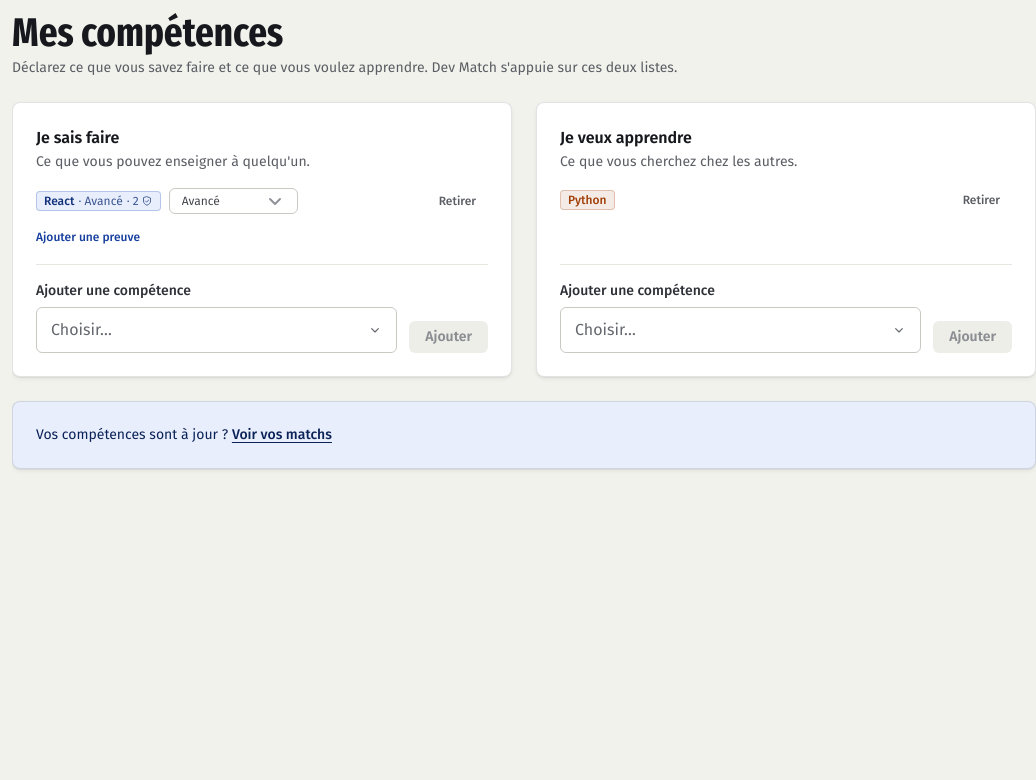
it: page des compétences › ajoute une compétence et annonce le recalcul des matchs
Expected: the heading "Je sais faire" is shown, [36,128,119,147]
What coordinates should you click on to do the following:
click the dropdown labelled "Ajouter une compétence" below "React"
I would click on:
 (217, 330)
Its box is [36,307,397,353].
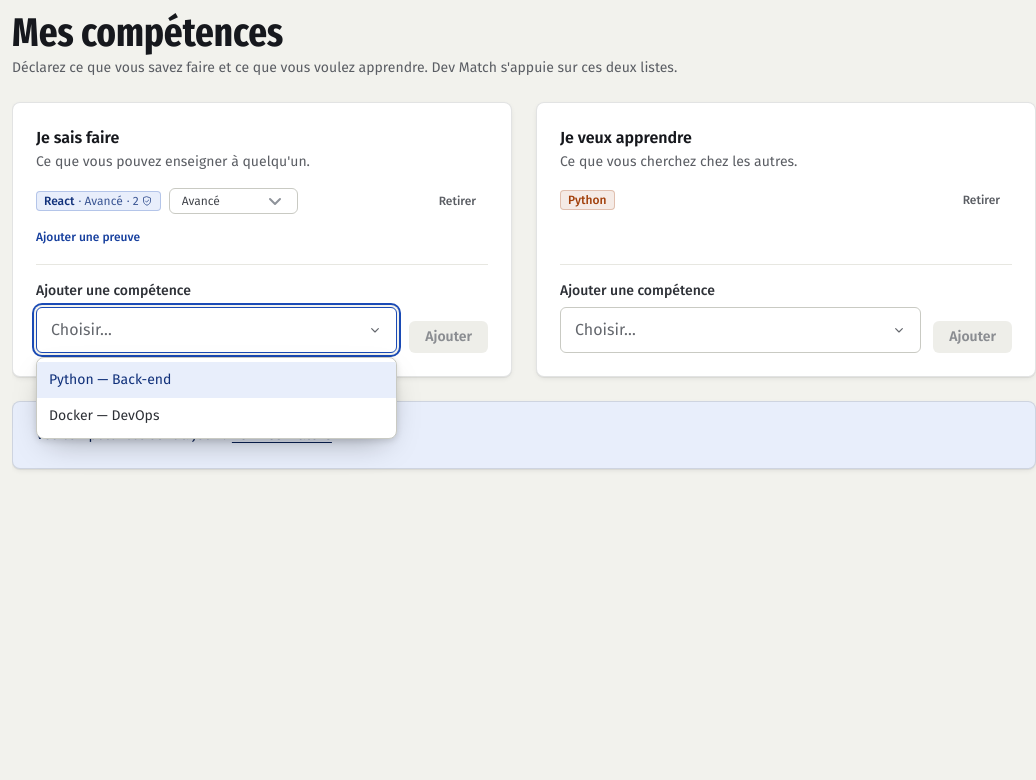
What coordinates should you click on to do the following:
click the option "Docker — DevOps"
I would click on:
 (104, 416)
Its box is [49,407,160,424].
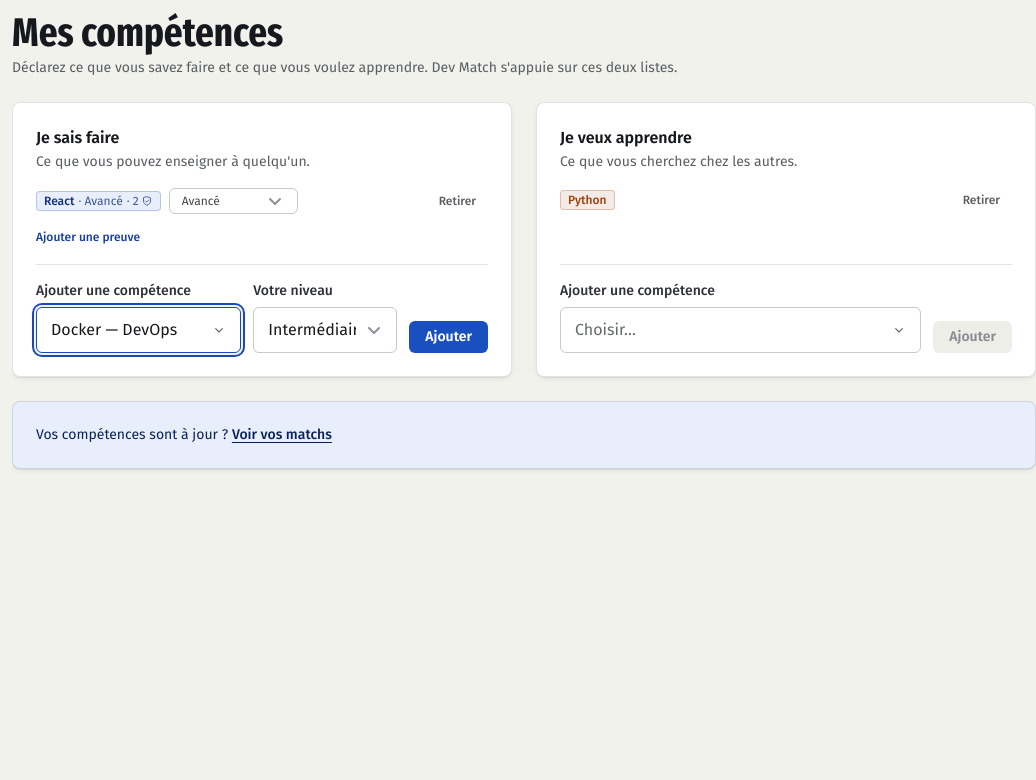
What coordinates should you click on to do the following:
click the button "Ajouter" below "Votre niveau"
I would click on:
 (449, 337)
Its box is [409,321,488,353].
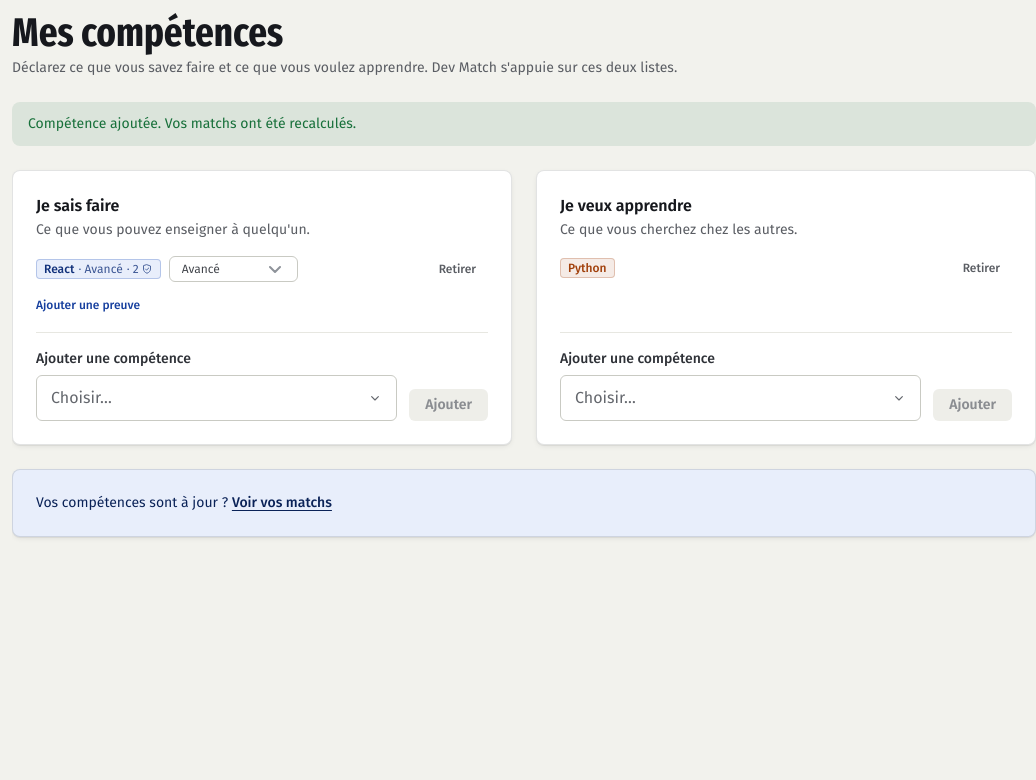
Expected: the message shows "recalculés", [28,115,356,132]
